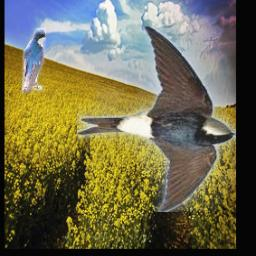Swallow: (77, 28, 236, 213), (23, 28, 47, 93)
